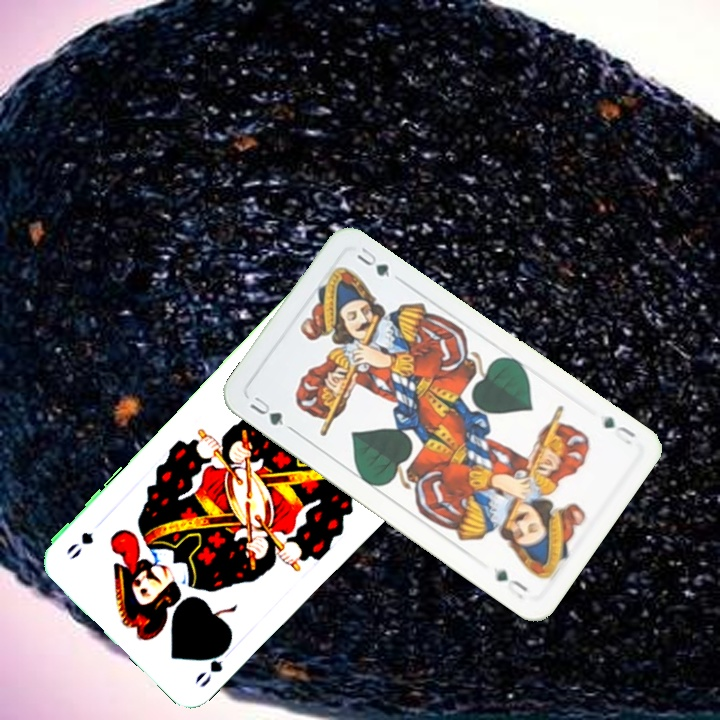GO: (190, 639, 234, 691)
GU: (245, 392, 286, 429), (599, 411, 638, 448)
